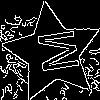M: (27, 27, 80, 76)
